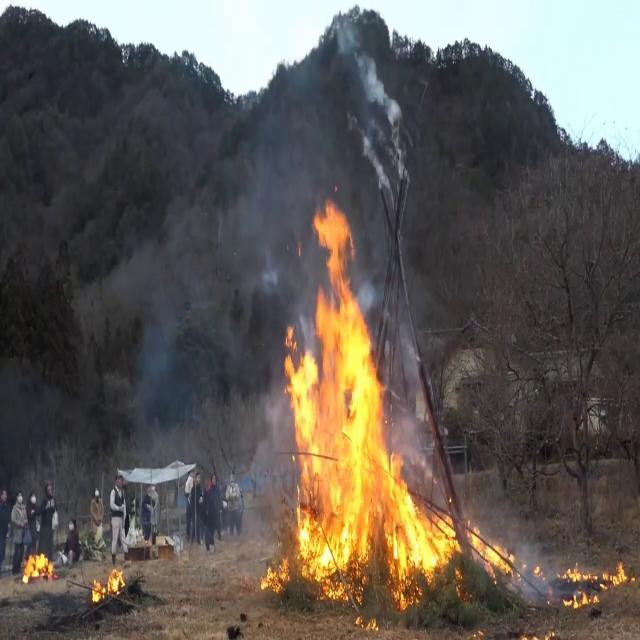Fire: (270, 194, 422, 616), (421, 506, 535, 586), (567, 552, 636, 612), (90, 564, 128, 604), (22, 546, 56, 582)
Smoke: (142, 104, 334, 422), (333, 16, 409, 192)
